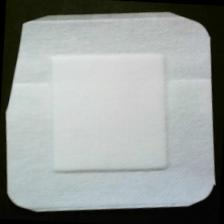Cut: (1, 4, 224, 222)
